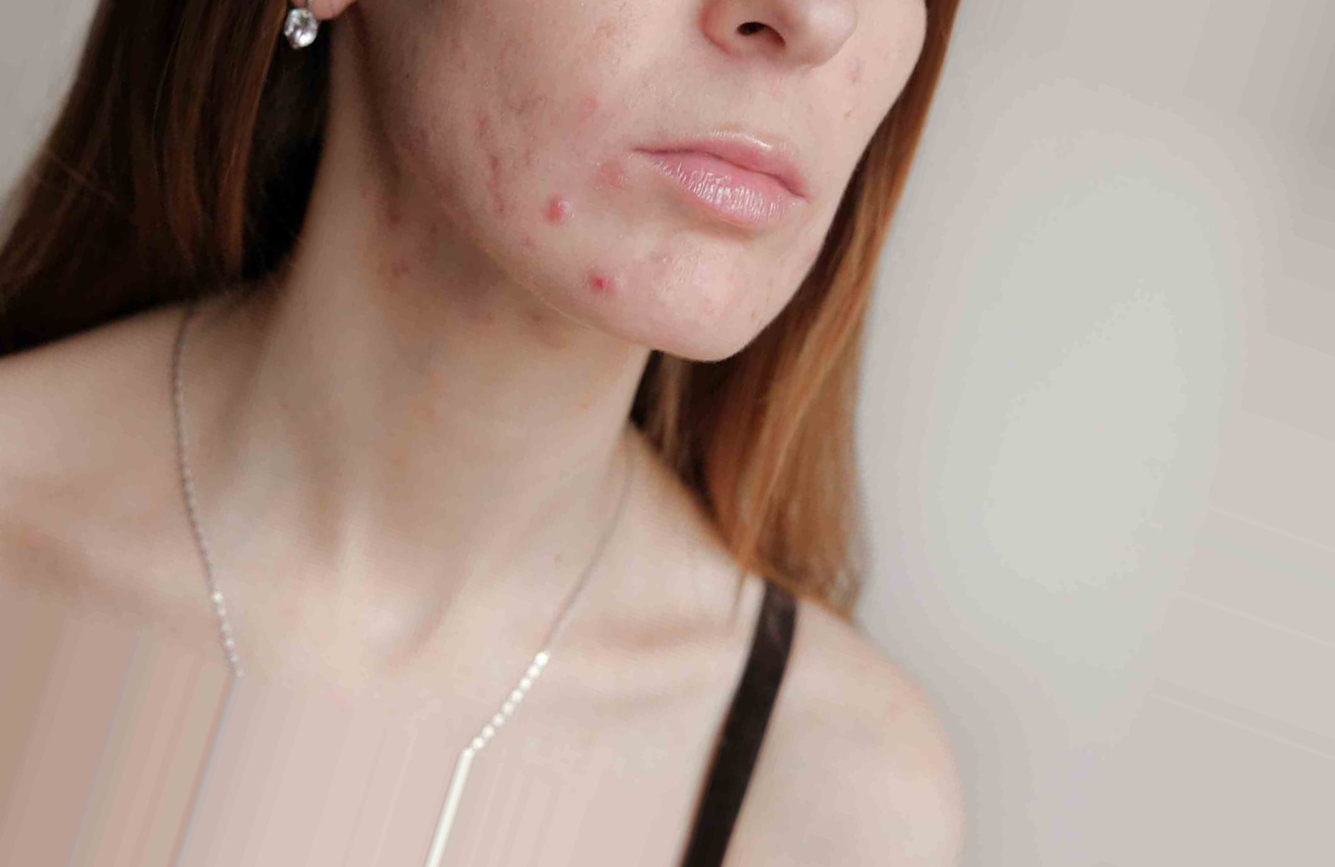Acne: (347, 94, 616, 329)
